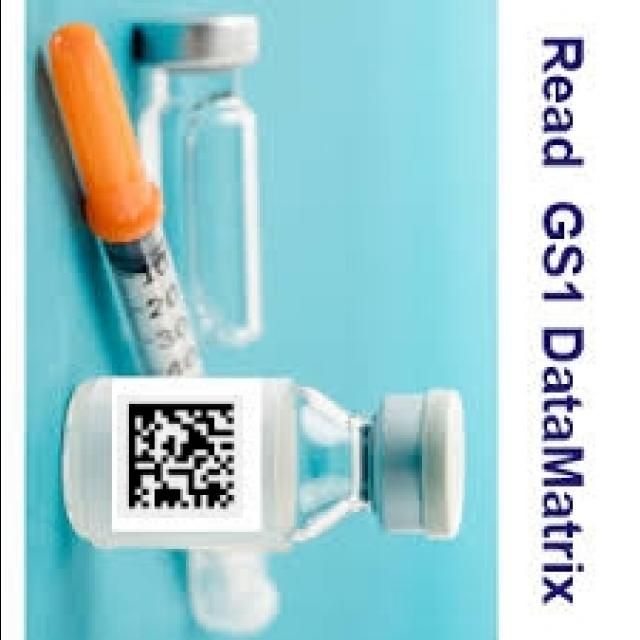DataMatrix: (116, 395, 242, 518)
